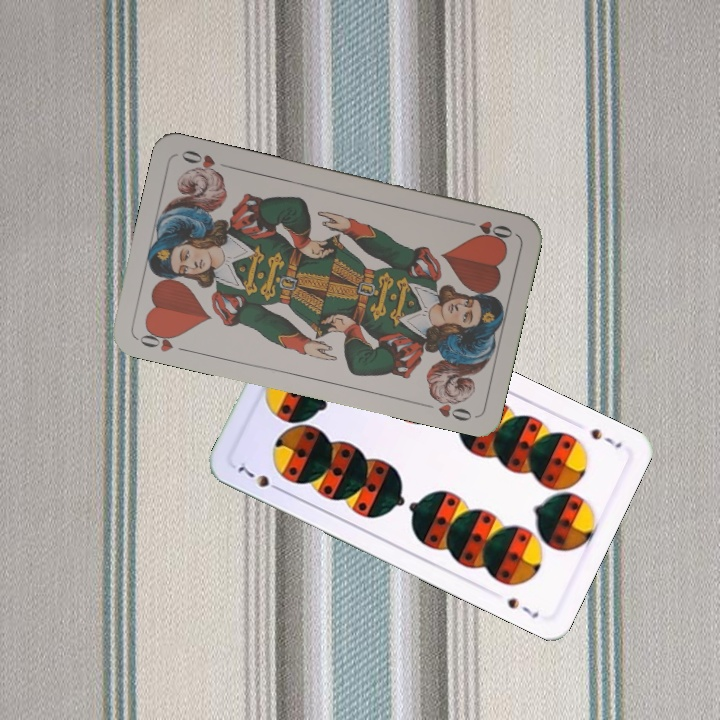HO: (135, 324, 192, 355), (459, 216, 515, 244)
S7: (234, 462, 286, 495), (586, 424, 625, 451)
